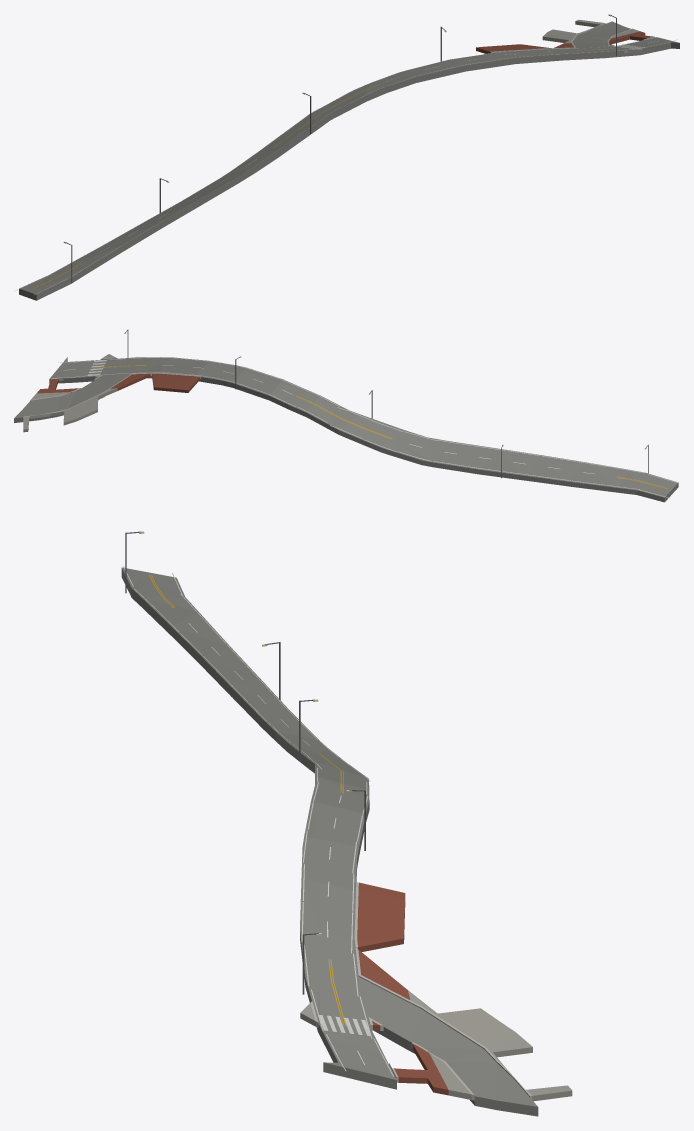
3 renders of one model, top to bottom at view 1: azimuth 30°, elevation 25°; view 2: azimuth 150°, elevation 25°; view 3: azimuth 270°, elevation 25°, orthographic. The views are drawn at different scales.
Size of the model in its own units: 149 by 21.15 by 51.11.
